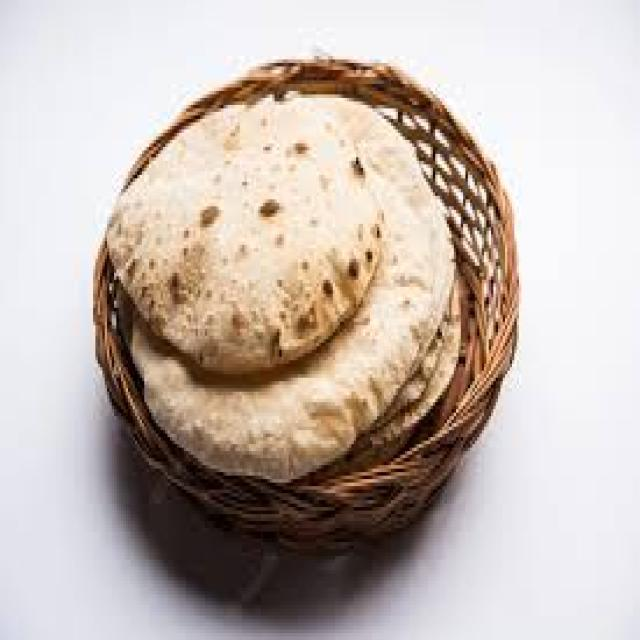RICE BHAKRI: (135, 90, 463, 476), (106, 91, 389, 371), (364, 273, 460, 435)
